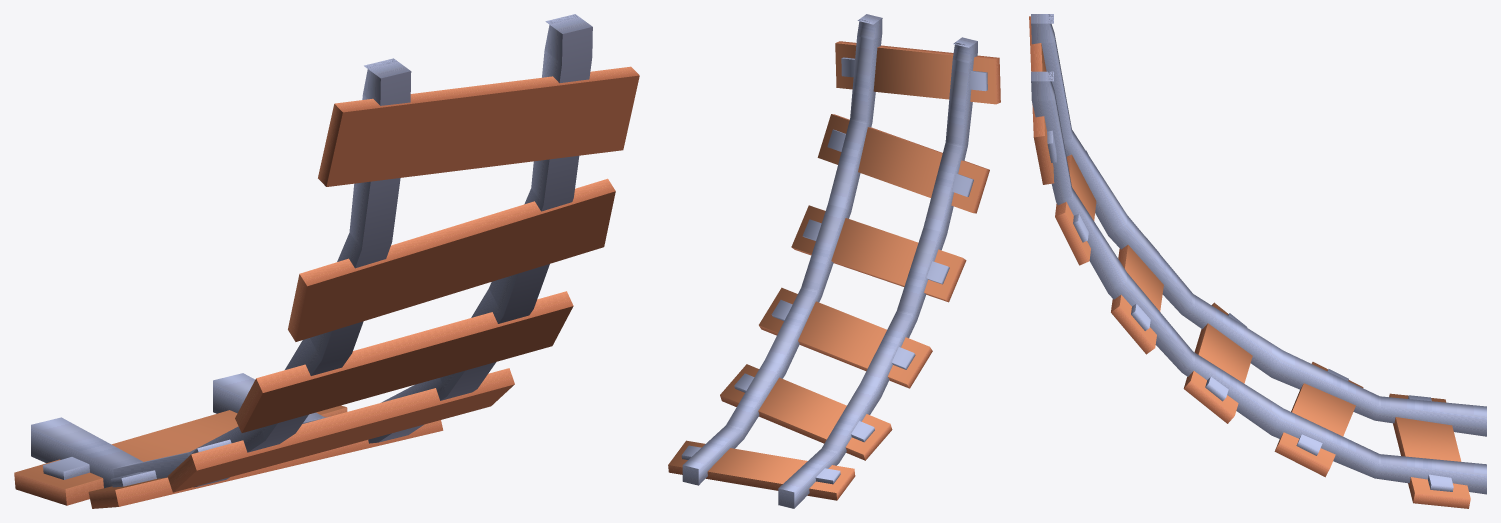
File: railroad-damaged-straight-bend.glb
The picture shows the model from 3 angles, left to right: view 1: azimuth 30°, elevation 25°; view 2: azimuth 150°, elevation 25°; view 3: azimuth 270°, elevation 25°; orthographic projection. The views are drawn at different scales.
Parts seen in each view (by area): view 1: railroad-damaged-straight-bend; view 2: railroad-damaged-straight-bend; view 3: railroad-damaged-straight-bend.
Part boxes in pixels (x1,y1,x2,y2): railroad-damaged-straight-bend: (14,14,639,508); railroad-damaged-straight-bend: (668,14,1000,508); railroad-damaged-straight-bend: (1029,14,1486,508).
Size of the model in its own units: 1.03 by 2.01 by 2.01.
Materials: 1 (1 with a texture image).
